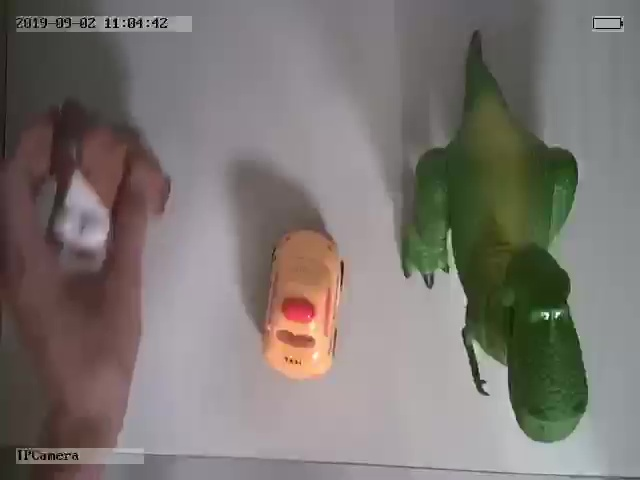car: (260, 228, 347, 380)
rex: (403, 53, 588, 442)
